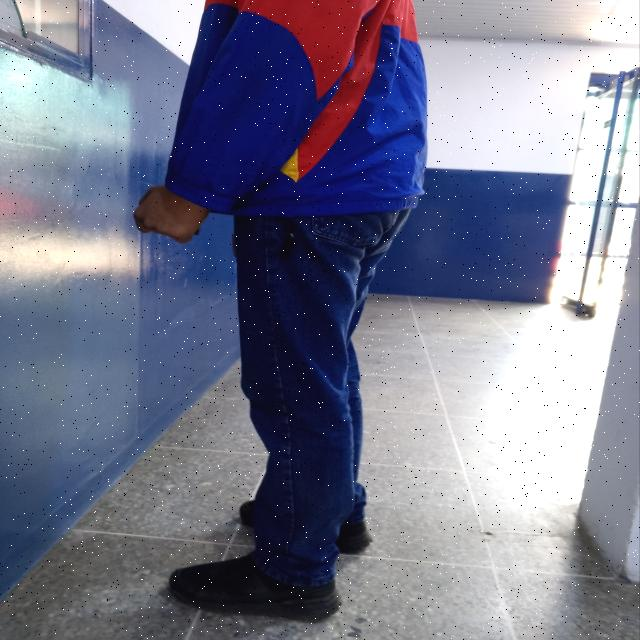chaqueta_unefa: (163, 0, 429, 220)
pantalon_oscuro: (228, 213, 416, 592)
